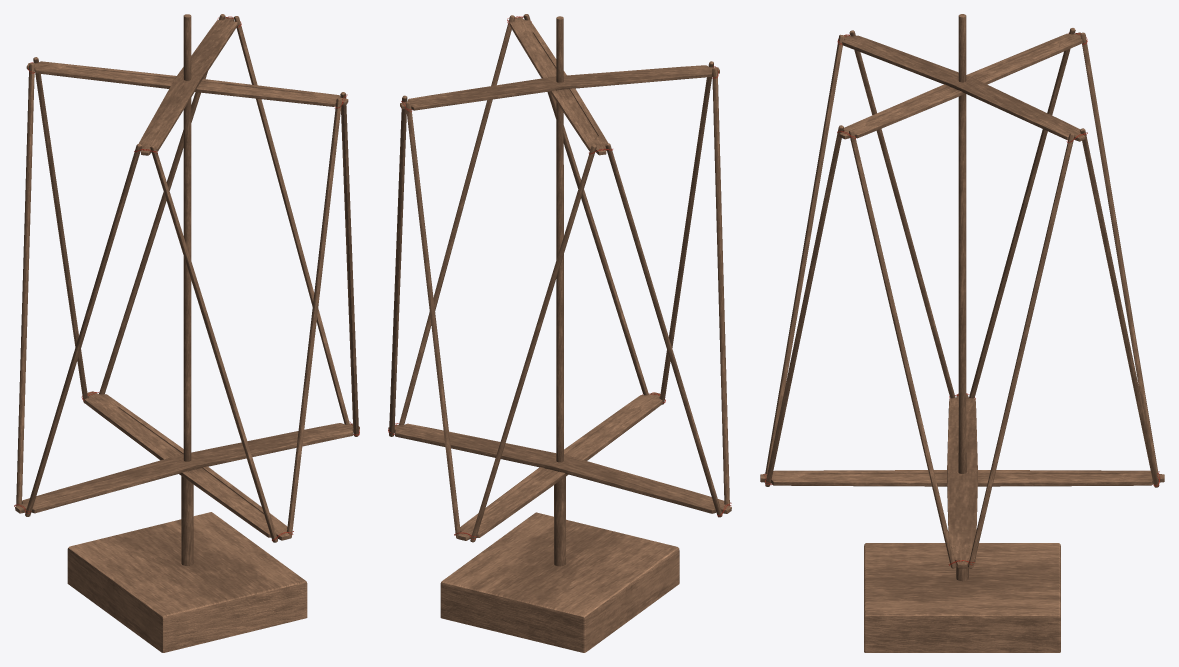
Rendered from Swrki.glb.
The picture shows the model from 3 angles, left to right: view 1: azimuth 30°, elevation 25°; view 2: azimuth 150°, elevation 25°; view 3: azimuth 270°, elevation 25°; orthographic projection. The views are drawn at different scales.
Visible parts, largest first — view 1: pCube14, pCube3, pCylinder7, pCube2, polySurface76, polySurface77, polySurface79, polySurface40, polySurface81, polySurface80, polySurface42, polySurface41 (+2 smaller); view 2: pCube14, pCube3, pCube2, pCylinder7, polySurface77, polySurface76, polySurface80, polySurface43, polySurface78, polySurface79, polySurface41, polySurface42 (+2 smaller); view 3: pCube14, pCube2, pCube3, pCylinder7, polySurface77, polySurface76, polySurface41, polySurface42, polySurface81, polySurface78, polySurface43, polySurface79 (+2 smaller).
Boxes of the visible parts, box(x1,y1,x2,y2) form: pCube14: box(67, 512, 307, 652); pCube3: box(15, 423, 359, 513); pCylinder7: box(181, 14, 193, 565); pCube2: box(84, 391, 289, 540); polySurface76: box(26, 61, 348, 106); polySurface77: box(138, 17, 237, 155); polySurface79: box(16, 63, 34, 505); polySurface40: box(287, 98, 341, 538); polySurface81: box(150, 145, 277, 542); polySurface80: box(25, 143, 141, 516); polySurface42: box(234, 16, 349, 424); polySurface41: box(340, 92, 358, 436); pCube14: box(440, 512, 679, 652); pCube3: box(388, 423, 731, 513); pCube2: box(458, 392, 662, 540); pCylinder7: box(554, 16, 566, 566); polySurface77: box(400, 65, 719, 110); polySurface76: box(510, 17, 607, 155); polySurface80: box(712, 67, 729, 505); polySurface43: box(405, 102, 460, 538); polySurface78: box(470, 144, 596, 542); polySurface79: box(605, 143, 722, 517); polySurface41: box(399, 15, 514, 425); polySurface42: box(389, 95, 407, 436); pCube14: box(864, 543, 1060, 652); pCube2: box(760, 470, 1164, 486); pCube3: box(947, 394, 977, 568); pCylinder7: box(956, 14, 968, 581); polySurface77: box(842, 35, 1085, 141); polySurface76: box(839, 32, 1082, 139); polySurface41: box(849, 130, 956, 568); polySurface42: box(968, 133, 1074, 568); polySurface81: box(765, 34, 844, 473); polySurface78: box(1080, 32, 1158, 473); polySurface43: box(1080, 128, 1159, 487); polySurface79: box(969, 28, 1075, 398).
Bounding box in the file's own units: 0.101 × 0.1657 × 0.1011.
1 material, 1 textured.
